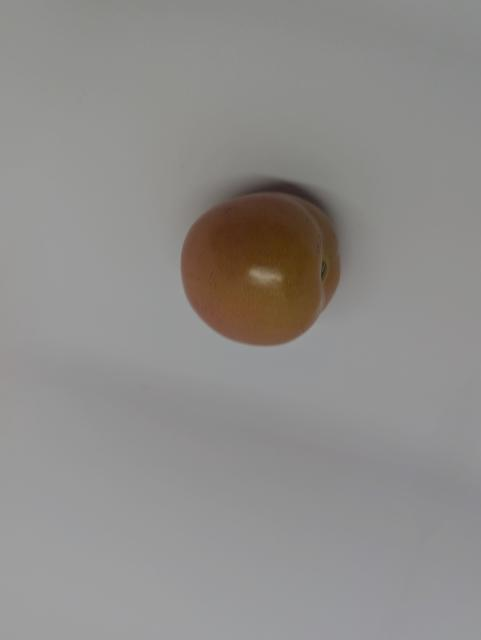turning: (176, 183, 348, 348)
